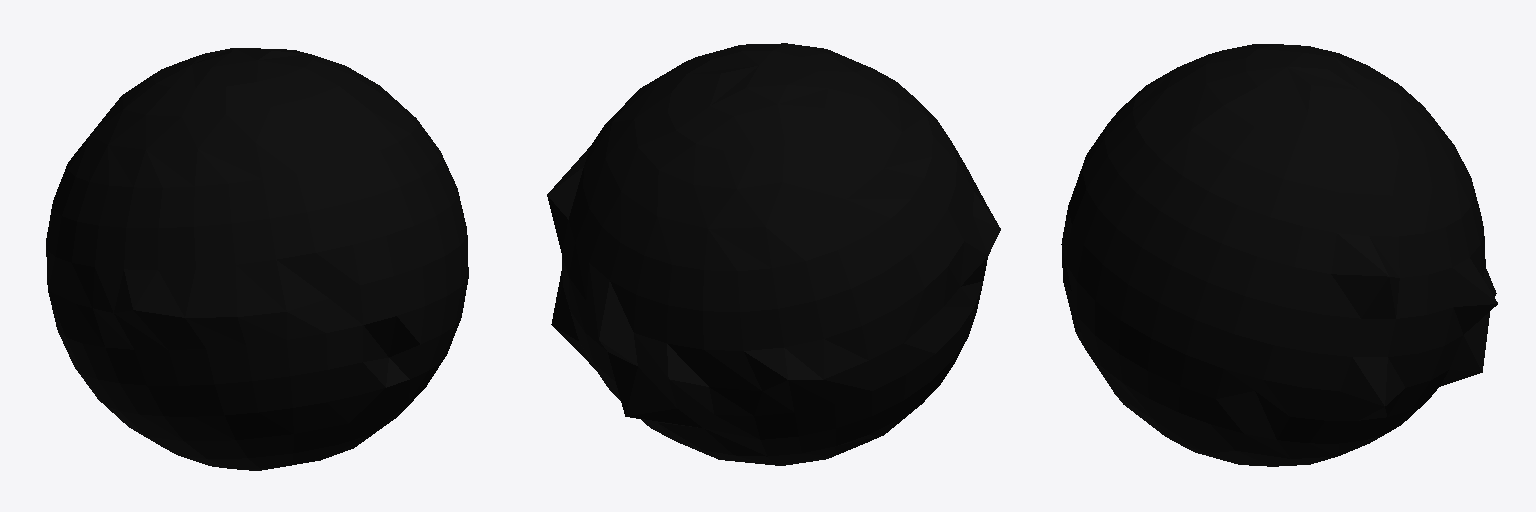
File: Nao6_Left_Arm_Elbow.obj
3 renders of one model, left to right at view 1: azimuth 30°, elevation 25°; view 2: azimuth 150°, elevation 25°; view 3: azimuth 270°, elevation 25°, orthographic.
Visible parts, largest first — view 1: Nao6_Left_Arm_Elbow; view 2: Nao6_Left_Arm_Elbow; view 3: Nao6_Left_Arm_Elbow.
Part boxes in pixels (bbox=[...]): Nao6_Left_Arm_Elbow: bbox=[46, 48, 468, 470]; Nao6_Left_Arm_Elbow: bbox=[547, 43, 1000, 465]; Nao6_Left_Arm_Elbow: bbox=[1061, 44, 1497, 466].
Bounding box in the file's own units: 0.211 × 0.2122 × 0.2191.